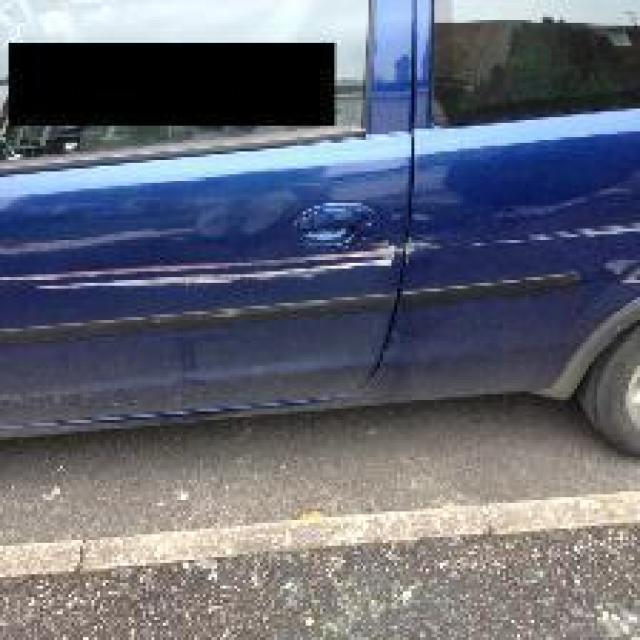damaged: (2, 228, 638, 294)
